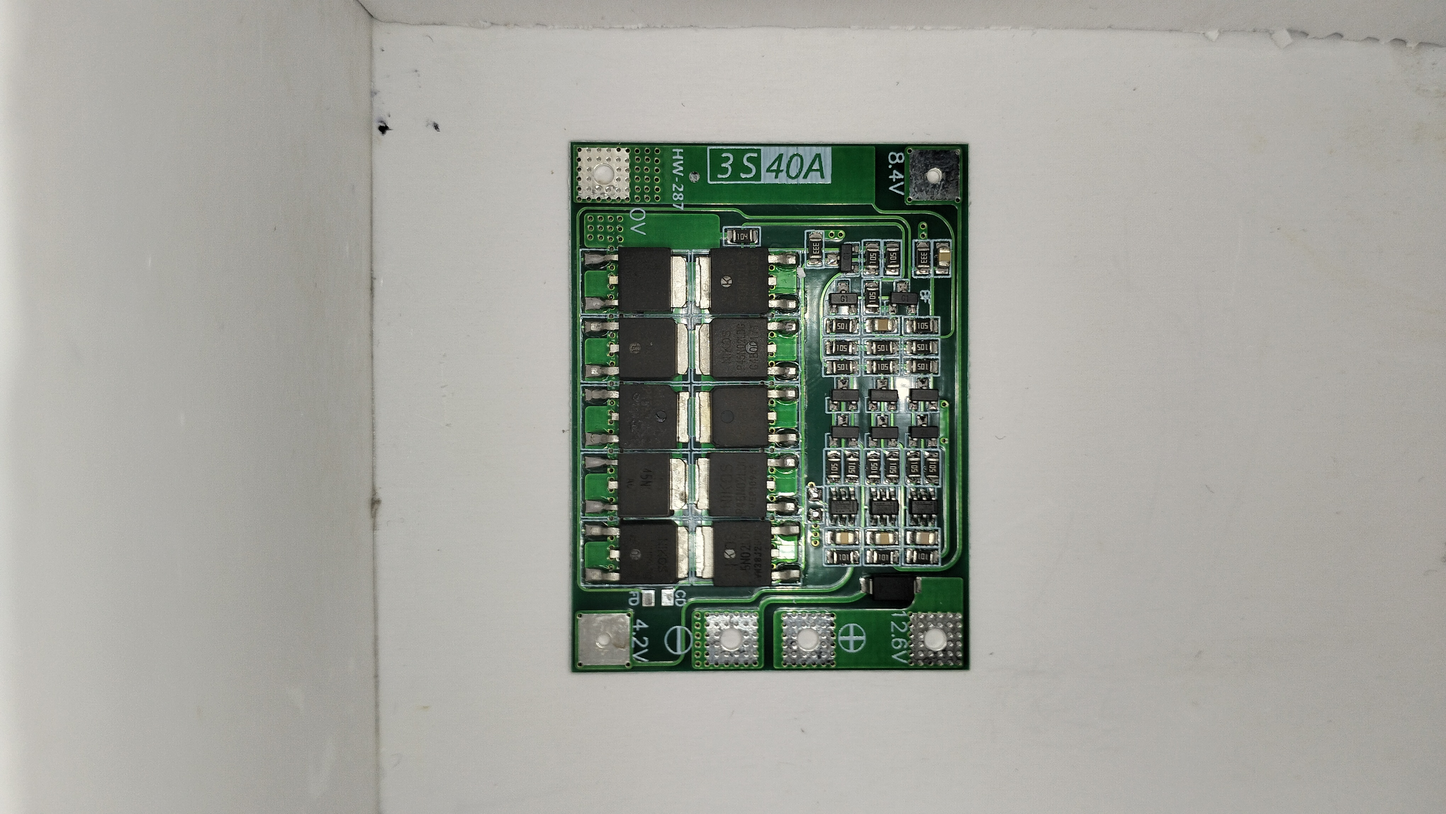C: (824, 529, 862, 546), (862, 318, 899, 335), (904, 529, 941, 546), (865, 529, 902, 546), (937, 243, 952, 271)
R 105: (823, 450, 842, 487), (845, 447, 864, 484), (882, 449, 901, 486), (882, 240, 901, 277), (923, 451, 942, 487), (861, 240, 879, 277), (864, 448, 882, 485), (907, 453, 925, 489), (863, 281, 881, 317), (823, 319, 860, 336), (821, 339, 858, 356), (822, 360, 859, 377), (903, 318, 939, 335), (865, 359, 901, 376), (904, 358, 940, 375), (864, 341, 900, 357), (904, 340, 940, 356)
R EEE: (910, 240, 934, 271), (804, 233, 825, 265)
R101: (821, 548, 862, 566), (900, 549, 941, 567), (861, 548, 902, 566)
R104: (723, 227, 764, 245)
diode: (856, 575, 923, 604)
ic 1: (574, 315, 689, 385), (690, 518, 804, 588), (694, 314, 808, 384), (574, 245, 689, 314), (581, 383, 695, 452), (573, 454, 687, 523), (574, 517, 688, 586), (692, 246, 806, 315), (690, 384, 804, 453), (693, 450, 807, 519)
ic 2: (825, 488, 860, 527), (908, 489, 943, 528), (865, 488, 900, 527)
transitor: (826, 241, 863, 279), (826, 373, 863, 411), (822, 281, 859, 318), (826, 413, 863, 450), (867, 413, 904, 450), (865, 374, 901, 412), (904, 375, 940, 413), (904, 411, 940, 448), (887, 277, 923, 314)
